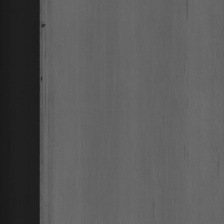inclusion: (39, 19, 44, 35), (40, 71, 44, 87)
